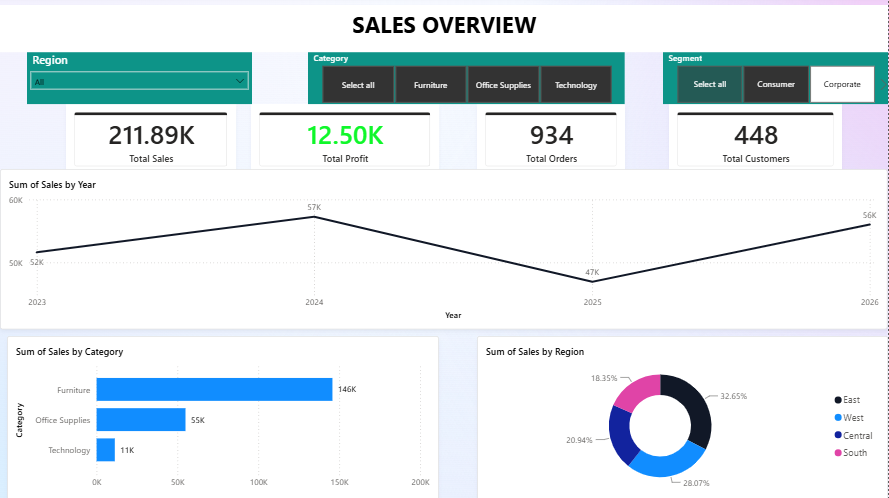

This screenshot's page, from the dashboard's own definition file:
{"tool":"powerbi","page":{"name":"Page 1","canvas":[1280,720],"ordinal":0},"visuals":[{"type":"cardVisual","fields":{"Data":["samplesuperstore.Total Sales"]},"box":[95,149.8,244.8,102.2],"z":0},{"type":"cardVisual","fields":{"Data":["samplesuperstore.Total Profit"]},"box":[361.4,149.8,270.7,102.2],"z":1000},{"type":"cardVisual","fields":{"Data":["samplesuperstore.Total Orders"]},"box":[686.9,149.8,213.1,102.2],"z":2000},{"type":"cardVisual","fields":{"Data":["samplesuperstore.Total Customers"]},"box":[963.8,150.2,249.4,102],"z":3000},{"type":"slicer","fields":{"Values":["samplesuperstore.Region"]},"box":[38.9,74.9,324,74.9],"z":4000},{"type":"slicer","fields":{"Values":["samplesuperstore.Category"]},"box":[443.6,75.1,456.4,75.1],"z":5000},{"type":"slicer","fields":{"Values":["samplesuperstore.Segment"]},"box":[954.7,74.9,324,74.9],"z":6000},{"type":"lineChart","fields":{"Category":["samplesuperstore.Order Date.Variation.Date Hierarchy.Year","samplesuperstore.Order Date.Variation.Date Hierarchy.Month"],"Y":["Sum(samplesuperstore.Sales)"]},"box":[0,243.8,1278.4,231],"z":7000},{"type":"clusteredBarChart","fields":{"Category":["samplesuperstore.Category"],"Y":["Sum(samplesuperstore.Sales)"]},"box":[9.9,483.3,622.2,236.7],"z":8000},{"type":"donutChart","fields":{"Category":["samplesuperstore.Region"],"Y":["Sum(samplesuperstore.Sales)"]},"box":[687.4,483.3,592.4,236.7],"z":9000},{"type":"textbox","box":[0,6.8,1280,67.7],"z":10000}]}

Visuals, with their boxes in screenshot pixels (x1, y1, x2, y2), scaled from the page's 1280x720 canvas onto the 889x498 screenshot:
cardVisual - samplesuperstore.Total Sales: left=66, top=104, right=236, bottom=174
cardVisual - samplesuperstore.Total Profit: left=251, top=104, right=439, bottom=174
cardVisual - samplesuperstore.Total Orders: left=477, top=104, right=625, bottom=174
cardVisual - samplesuperstore.Total Customers: left=669, top=104, right=843, bottom=174
slicer - samplesuperstore.Region: left=27, top=52, right=252, bottom=104
slicer - samplesuperstore.Category: left=308, top=52, right=625, bottom=104
slicer - samplesuperstore.Segment: left=663, top=52, right=888, bottom=104
lineChart - samplesuperstore.Order Date.Variation.Date Hierarchy.Year x samplesuperstore.Order Date.Variation.Date Hierarchy.Month: left=0, top=169, right=888, bottom=328
clusteredBarChart - samplesuperstore.Category x Sum(samplesuperstore.Sales): left=7, top=334, right=439, bottom=497
donutChart - samplesuperstore.Region x Sum(samplesuperstore.Sales): left=477, top=334, right=888, bottom=497
textbox: left=0, top=5, right=888, bottom=52
